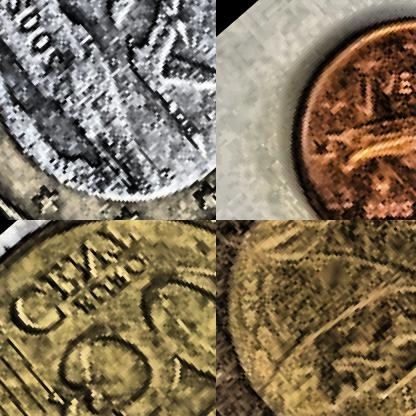coin: (0, 0, 215, 219), (0, 220, 215, 415), (216, 220, 415, 415), (239, 0, 415, 219)
